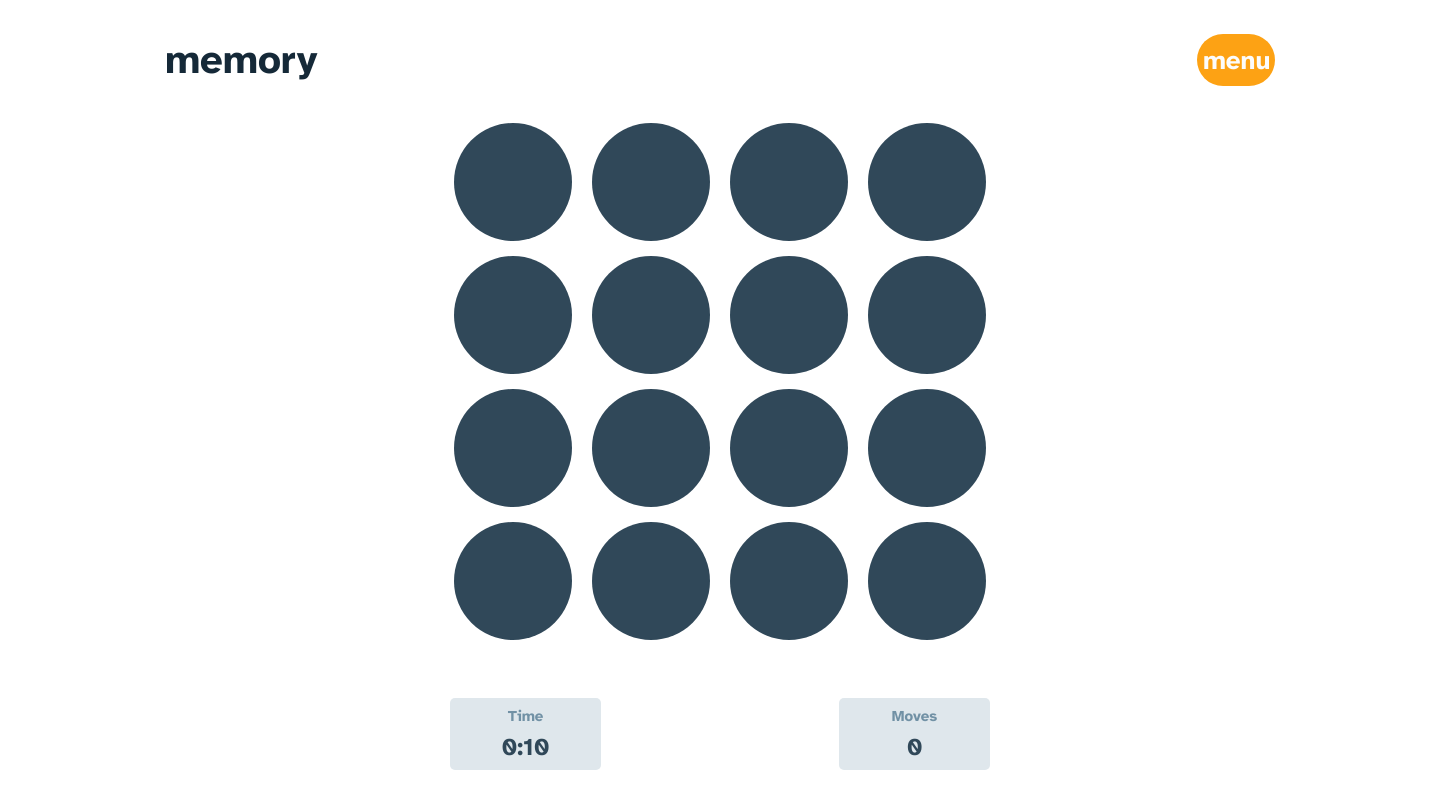
Test: solo game small screen › should not increment the timer when displaying Menu and resume when closed
expect the element "Time 0:10" is shown: met, box [450, 698, 601, 770]
Click the button "menu": (1236, 60) [1197, 34, 1275, 86]
Wait 10000 ms
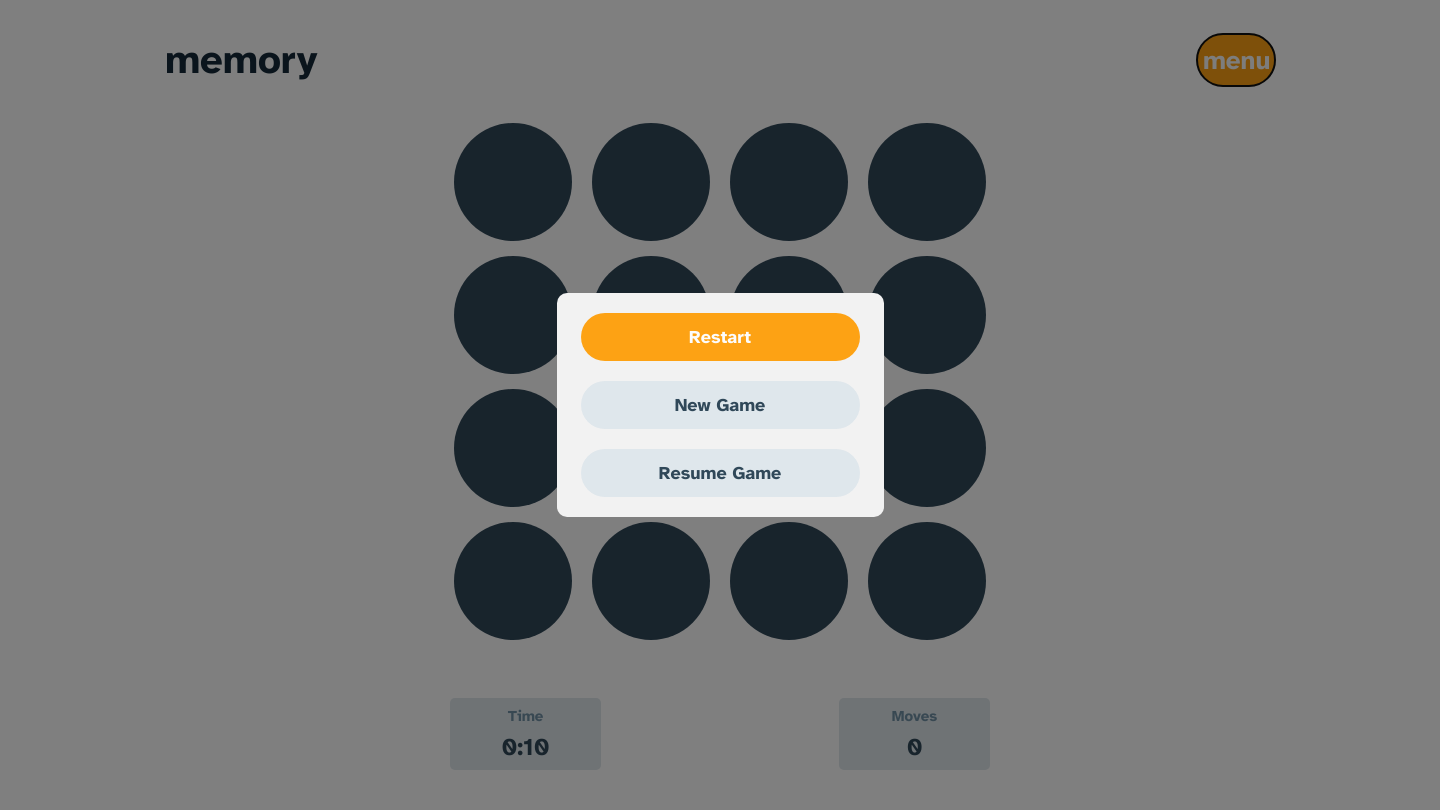
expect the element "Time 0:10" is shown: met, box [450, 698, 601, 770]
Click the dialog: (86, 405) [0, 0, 1439, 809]
Wait 10000 ms
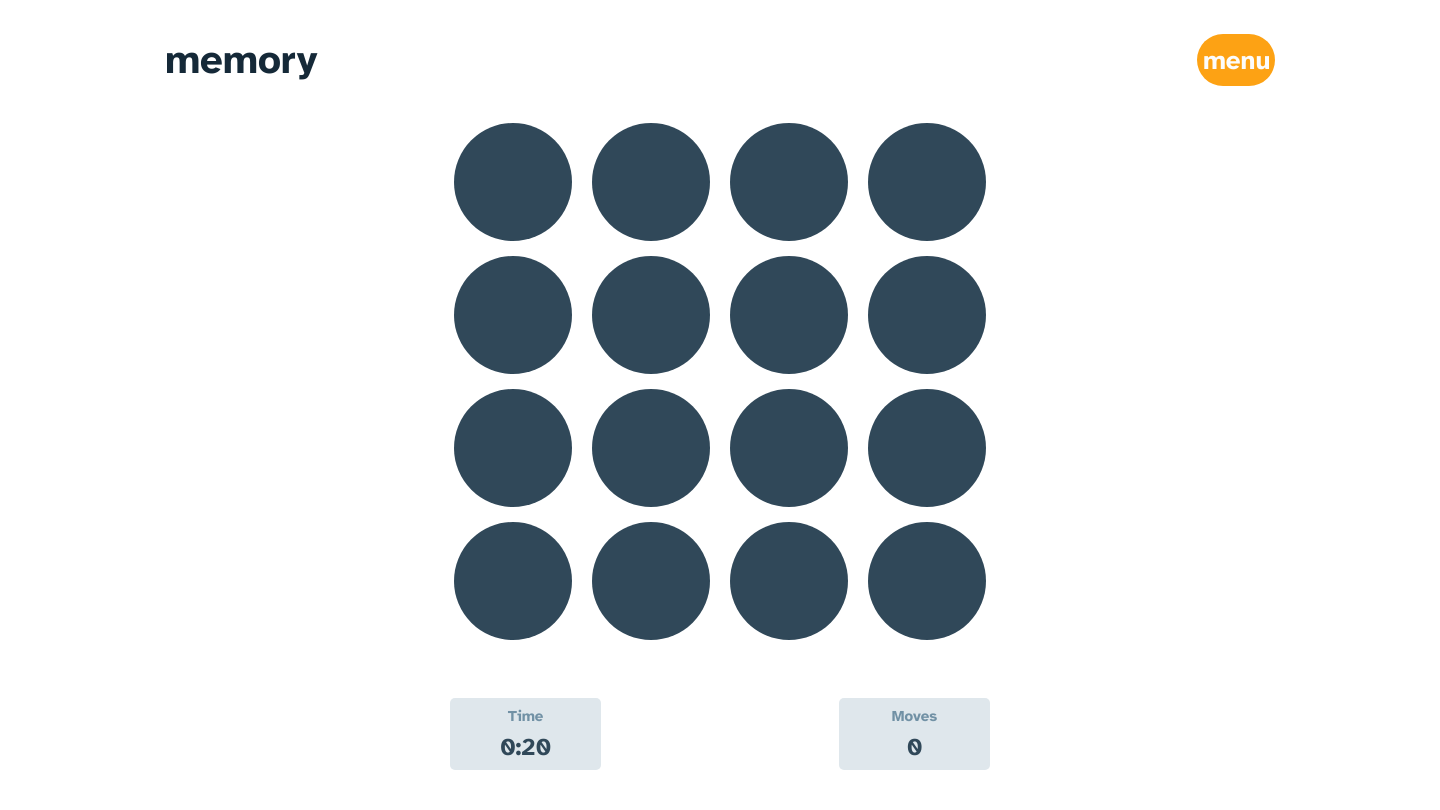
expect the element "Time 0:20" is shown: met, box [450, 698, 601, 770]
